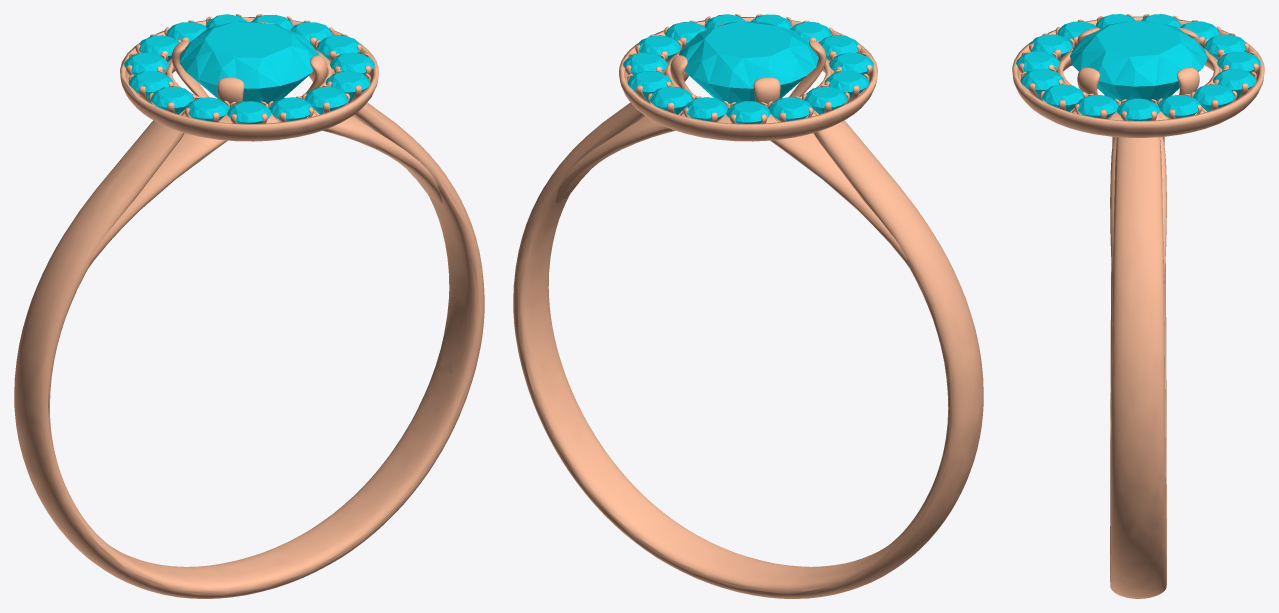
The model's file is HaloRing.glb.
The picture shows the model from 3 angles, left to right: view 1: azimuth 30°, elevation 25°; view 2: azimuth 150°, elevation 25°; view 3: azimuth 270°, elevation 25°; orthographic projection. The views are drawn at different scales.
Visible parts, largest first — view 1: Ring, MarkerGem, MarkerGem.012, MarkerGem.008, MarkerGem.011, MarkerGem.009, MarkerGem.010, MarkerGem.007, MarkerGem.013, MarkerGem.005, MarkerGem.014, MarkerGem.006 (+1 smaller); view 2: Ring, MarkerGem, MarkerGem.013, MarkerGem.002, MarkerGem.014, MarkerGem.001, MarkerGem.015, MarkerGem.003, MarkerGem.012, MarkerGem.005, MarkerGem.011, MarkerGem.004 (+1 smaller); view 3: Ring, MarkerGem, MarkerGem.007, MarkerGem.003, MarkerGem.006, MarkerGem.004, MarkerGem.005, MarkerGem.008, MarkerGem.002, MarkerGem.015, MarkerGem.010, MarkerGem.001 (+3 smaller).
Part boxes in pixels (<box>): Ring: <box>14,14,484,598</box>; MarkerGem: <box>179,21,319,103</box>; MarkerGem.012: <box>150,86,193,114</box>; MarkerGem.008: <box>304,86,348,114</box>; MarkerGem.011: <box>185,97,229,121</box>; MarkerGem.009: <box>269,97,313,121</box>; MarkerGem.010: <box>227,101,271,123</box>; MarkerGem.007: <box>325,71,370,102</box>; MarkerGem.013: <box>128,71,173,103</box>; MarkerGem.005: <box>317,35,360,61</box>; MarkerGem.014: <box>124,52,168,75</box>; MarkerGem.006: <box>330,52,374,74</box>; Ring: <box>513,14,983,598</box>; MarkerGem: <box>679,21,818,103</box>; MarkerGem.013: <box>804,86,847,114</box>; MarkerGem.002: <box>649,86,692,114</box>; MarkerGem.014: <box>768,97,812,121</box>; MarkerGem.001: <box>684,97,728,121</box>; MarkerGem.015: <box>726,101,770,123</box>; MarkerGem.003: <box>627,71,672,102</box>; MarkerGem.012: <box>824,71,869,102</box>; MarkerGem.005: <box>637,35,680,61</box>; MarkerGem.011: <box>829,52,873,75</box>; MarkerGem.004: <box>623,52,667,75</box>; Ring: <box>1012,14,1264,598</box>; MarkerGem: <box>1070,20,1207,101</box>; MarkerGem.007: <box>1042,84,1083,111</box>; MarkerGem.003: <box>1193,84,1235,111</box>; MarkerGem.006: <box>1077,94,1119,118</box>; MarkerGem.004: <box>1158,95,1200,118</box>; MarkerGem.005: <box>1117,98,1159,120</box>; MarkerGem.008: <box>1020,69,1064,100</box>; MarkerGem.002: <box>1213,69,1256,99</box>; MarkerGem.015: <box>1204,34,1245,60</box>; MarkerGem.010: <box>1029,34,1072,58</box>; MarkerGem.001: <box>1217,51,1260,73</box>.
Size of the model in its own units: 0.9784 by 1.12 by 0.48.
